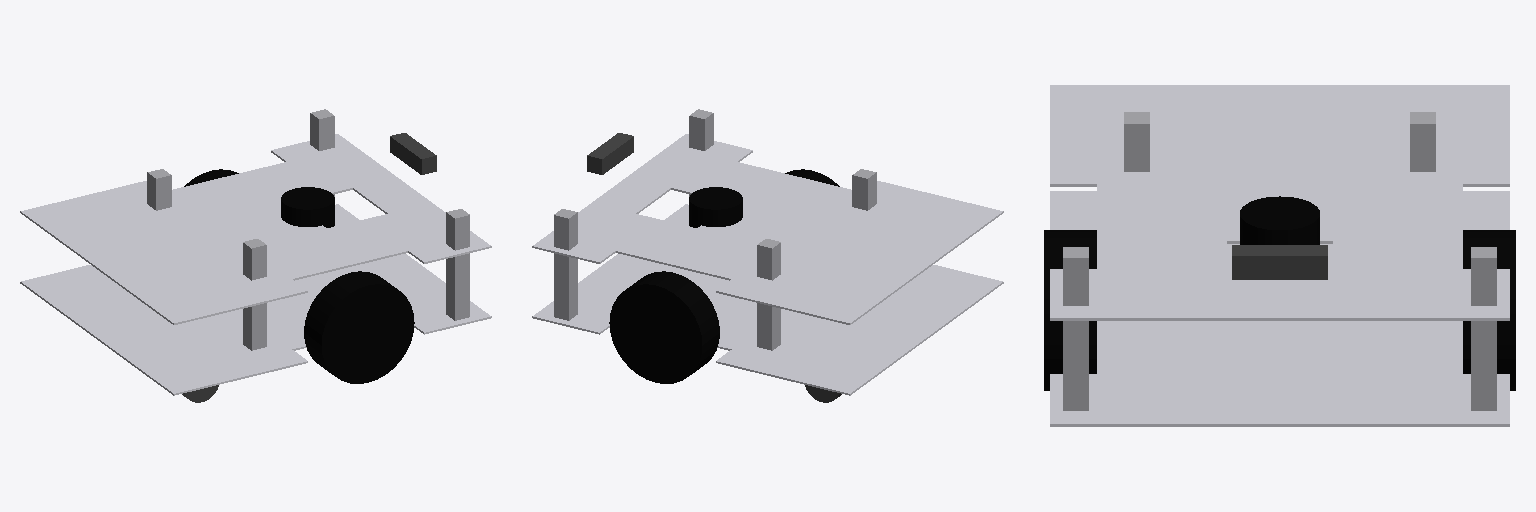
The robot description file, URDF, robot "robot_chassis":
<?xml version="1.0" ?>
<!-- =================================================================================== -->
<!-- |    This document was autogenerated by xacro from /home/shivu/argo_mini_ws/src/argo_mini/urdf/argo_mini.xacro | -->
<!-- |    EDITING THIS FILE BY HAND IS NOT RECOMMENDED                                 | -->
<!-- =================================================================================== -->
<robot name="robot_chassis">
  <material name="aluminum">
    <color rgba="0.85 0.85 0.88 1.0"/>
  </material>
  <material name="black">
    <color rgba="0.05 0.05 0.05 1.0"/>
  </material>
  <material name="dark_grey">
    <color rgba="0.30 0.30 0.30 1.0"/>
  </material>
  <material name="silver">
    <color rgba="0.70 0.70 0.72 1.0"/>
  </material>
  <link name="base_footprint"/>
  <link name="base_link">
    <visual>
      <origin rpy="0 0 0" xyz="0.20500000000000002 0 0.0015"/>
      <geometry>
        <box size="0.10999999999999999 0.435 0.003"/>
      </geometry>
      <material name="aluminum"/>
    </visual>
    <collision>
      <origin rpy="0 0 0" xyz="0.20500000000000002 0 0.0015"/>
      <geometry>
        <box size="0.10999999999999999 0.435 0.003"/>
      </geometry>
    </collision>
    <visual>
      <origin rpy="0 0 0" xyz="-0.15 0 0.0015"/>
      <geometry>
        <box size="0.22000000000000003 0.435 0.003"/>
      </geometry>
      <material name="aluminum"/>
    </visual>
    <collision>
      <origin rpy="0 0 0" xyz="-0.15 0 0.0015"/>
      <geometry>
        <box size="0.22000000000000003 0.435 0.003"/>
      </geometry>
    </collision>
    <visual>
      <origin rpy="0 0 0" xyz="0.05500000000000002 0 0.0015"/>
      <geometry>
        <box size="0.19 0.34500000000000003 0.003"/>
      </geometry>
      <material name="aluminum"/>
    </visual>
    <collision>
      <origin rpy="0 0 0" xyz="0.05500000000000002 0 0.0015"/>
      <geometry>
        <box size="0.19 0.34500000000000003 0.003"/>
      </geometry>
    </collision>
    <inertial>
      <mass value="2.0"/>
      <origin rpy="0 0 0" xyz="0 0 0"/>
      <inertia ixx="0.031539000000000005" ixy="0" ixz="0" iyy="0.045068166666666666" iyz="0" izz="0.07660416666666668"/>
    </inertial>
  </link>
  <joint name="base_footprint_to_base_link" type="fixed">
    <parent link="base_footprint"/>
    <child link="base_link"/>
    <origin rpy="0 0 0" xyz="0 0 0.06"/>
  </joint>
  <link name="upper_plate_link">
    <visual>
      <origin rpy="0 0 0" xyz="-0.15 0 0.0015"/>
      <geometry>
        <box size="0.22000000000000003 0.435 0.003"/>
      </geometry>
      <material name="aluminum"/>
    </visual>
    <collision>
      <origin rpy="0 0 0" xyz="-0.15 0 0.0015"/>
      <geometry>
        <box size="0.22000000000000003 0.435 0.003"/>
      </geometry>
    </collision>
    <visual>
      <origin rpy="0 0 0" xyz="0.023750000000000014 0 0.0015"/>
      <geometry>
        <box size="0.1275 0.34500000000000003 0.003"/>
      </geometry>
      <material name="aluminum"/>
    </visual>
    <collision>
      <origin rpy="0 0 0" xyz="0.023750000000000014 0 0.0015"/>
      <geometry>
        <box size="0.1275 0.34500000000000003 0.003"/>
      </geometry>
    </collision>
    <visual>
      <origin rpy="0 0 0" xyz="0.11875000000000002 0.11125000000000002 0.0015"/>
      <geometry>
        <box size="0.06250000000000001 0.12250000000000001 0.003"/>
      </geometry>
      <material name="aluminum"/>
    </visual>
    <collision>
      <origin rpy="0 0 0" xyz="0.11875000000000002 0.11125000000000002 0.0015"/>
      <geometry>
        <box size="0.06250000000000001 0.12250000000000001 0.003"/>
      </geometry>
    </collision>
    <visual>
      <origin rpy="0 0 0" xyz="0.11875000000000002 -0.11125000000000002 0.0015"/>
      <geometry>
        <box size="0.06250000000000001 0.12250000000000001 0.003"/>
      </geometry>
      <material name="aluminum"/>
    </visual>
    <collision>
      <origin rpy="0 0 0" xyz="0.11875000000000002 -0.11125000000000002 0.0015"/>
      <geometry>
        <box size="0.06250000000000001 0.12250000000000001 0.003"/>
      </geometry>
    </collision>
    <visual>
      <origin rpy="0 0 0" xyz="0.16875 0.13375 0.0015"/>
      <geometry>
        <box size="0.03749999999999998 0.16749999999999998 0.003"/>
      </geometry>
      <material name="aluminum"/>
    </visual>
    <collision>
      <origin rpy="0 0 0" xyz="0.16875 0.13375 0.0015"/>
      <geometry>
        <box size="0.03749999999999998 0.16749999999999998 0.003"/>
      </geometry>
    </collision>
    <visual>
      <origin rpy="0 0 0" xyz="0.16875 -0.13375 0.0015"/>
      <geometry>
        <box size="0.03749999999999998 0.16749999999999998 0.003"/>
      </geometry>
      <material name="aluminum"/>
    </visual>
    <collision>
      <origin rpy="0 0 0" xyz="0.16875 -0.13375 0.0015"/>
      <geometry>
        <box size="0.03749999999999998 0.16749999999999998 0.003"/>
      </geometry>
    </collision>
    <visual>
      <origin rpy="0 0 0" xyz="0.22375 0 0.0015"/>
      <geometry>
        <box size="0.07250000000000001 0.435 0.003"/>
      </geometry>
      <material name="aluminum"/>
    </visual>
    <collision>
      <origin rpy="0 0 0" xyz="0.22375 0 0.0015"/>
      <geometry>
        <box size="0.07250000000000001 0.435 0.003"/>
      </geometry>
    </collision>
    <inertial>
      <mass value="2.0"/>
      <origin rpy="0 0 0" xyz="0 0 0"/>
      <inertia ixx="0.031539000000000005" ixy="0" ixz="0" iyy="0.045068166666666666" iyz="0" izz="0.07660416666666668"/>
    </inertial>
  </link>
  <joint name="lower_plate_to_upper_plate" type="fixed">
    <parent link="base_link"/>
    <child link="upper_plate_link"/>
    <origin rpy="0 0 0" xyz="0 0 0.11"/>
  </joint>
  <link name="standoff_fl_link">
    <visual>
      <origin rpy="0 0 0" xyz="0 0 0.08"/>
      <geometry>
        <box size="0.025 0.025 0.16"/>
      </geometry>
      <material name="silver"/>
    </visual>
    <collision>
      <origin rpy="0 0 0" xyz="0 0 0.08"/>
      <geometry>
        <box size="0.025 0.025 0.16"/>
      </geometry>
    </collision>
    <inertial>
      <mass value="0.05"/>
      <origin rpy="0 0 0" xyz="0 0 0"/>
      <inertia ixx="0.00010927083333333334" ixy="0" ixz="0" iyy="0.00010927083333333334" iyz="0" izz="5.208333333333335e-06"/>
    </inertial>
  </link>
  <joint name="standoff_fl_joint" type="fixed">
    <parent link="base_link"/>
    <child link="standoff_fl_link"/>
    <origin rpy="0 0 0" xyz="0.22 0.1925 0.003"/>
  </joint>
  <link name="standoff_fr_link">
    <visual>
      <origin rpy="0 0 0" xyz="0 0 0.08"/>
      <geometry>
        <box size="0.025 0.025 0.16"/>
      </geometry>
      <material name="silver"/>
    </visual>
    <collision>
      <origin rpy="0 0 0" xyz="0 0 0.08"/>
      <geometry>
        <box size="0.025 0.025 0.16"/>
      </geometry>
    </collision>
    <inertial>
      <mass value="0.05"/>
      <origin rpy="0 0 0" xyz="0 0 0"/>
      <inertia ixx="0.00010927083333333334" ixy="0" ixz="0" iyy="0.00010927083333333334" iyz="0" izz="5.208333333333335e-06"/>
    </inertial>
  </link>
  <joint name="standoff_fr_joint" type="fixed">
    <parent link="base_link"/>
    <child link="standoff_fr_link"/>
    <origin rpy="0 0 0" xyz="0.22 -0.1925 0.003"/>
  </joint>
  <link name="standoff_rl_link">
    <visual>
      <origin rpy="0 0 0" xyz="0 0 0.08"/>
      <geometry>
        <box size="0.025 0.025 0.16"/>
      </geometry>
      <material name="silver"/>
    </visual>
    <collision>
      <origin rpy="0 0 0" xyz="0 0 0.08"/>
      <geometry>
        <box size="0.025 0.025 0.16"/>
      </geometry>
    </collision>
    <inertial>
      <mass value="0.05"/>
      <origin rpy="0 0 0" xyz="0 0 0"/>
      <inertia ixx="0.00010927083333333334" ixy="0" ixz="0" iyy="0.00010927083333333334" iyz="0" izz="5.208333333333335e-06"/>
    </inertial>
  </link>
  <joint name="standoff_rl_joint" type="fixed">
    <parent link="base_link"/>
    <child link="standoff_rl_link"/>
    <origin rpy="0 0 0" xyz="-0.07999999999999999 0.135 0.003"/>
  </joint>
  <link name="standoff_rr_link">
    <visual>
      <origin rpy="0 0 0" xyz="0 0 0.08"/>
      <geometry>
        <box size="0.025 0.025 0.16"/>
      </geometry>
      <material name="silver"/>
    </visual>
    <collision>
      <origin rpy="0 0 0" xyz="0 0 0.08"/>
      <geometry>
        <box size="0.025 0.025 0.16"/>
      </geometry>
    </collision>
    <inertial>
      <mass value="0.05"/>
      <origin rpy="0 0 0" xyz="0 0 0"/>
      <inertia ixx="0.00010927083333333334" ixy="0" ixz="0" iyy="0.00010927083333333334" iyz="0" izz="5.208333333333335e-06"/>
    </inertial>
  </link>
  <joint name="standoff_rr_joint" type="fixed">
    <parent link="base_link"/>
    <child link="standoff_rr_link"/>
    <origin rpy="0 0 0" xyz="-0.07999999999999999 -0.135 0.003"/>
  </joint>
  <link name="left_wheel_link">
    <visual>
      <origin rpy="1.5707963267948966 0 0" xyz="0 0 0"/>
      <geometry>
        <cylinder length="0.05" radius="0.0762"/>
      </geometry>
      <material name="black"/>
    </visual>
    <collision>
      <origin rpy="1.5707963267948966 0 0" xyz="0 0 0"/>
      <geometry>
        <cylinder length="0.05" radius="0.0762"/>
      </geometry>
    </collision>
    <inertial>
      <mass value="1.5"/>
      <origin rpy="0 0 0" xyz="0 0 0"/>
      <inertia ixx="0.0030218750000000003" ixy="0" ixz="0" iyy="0.0030218750000000003" iyz="0" izz="0.005418750000000001"/>
    </inertial>
  </link>
  <joint name="left_wheel_joint" type="continuous">
    <parent link="base_link"/>
    <child link="left_wheel_link"/>
    <origin rpy="0 0 0" xyz="0.05500000000000002 0.1975 0.02500000000000001"/>
    <axis xyz="0 1 0"/>
    <limit effort="10.0" velocity="10.0"/>
    <dynamics damping="0.1" friction="0.1"/>
  </joint>
  <link name="right_wheel_link">
    <visual>
      <origin rpy="1.5707963267948966 0 0" xyz="0 0 0"/>
      <geometry>
        <cylinder length="0.05" radius="0.0762"/>
      </geometry>
      <material name="black"/>
    </visual>
    <collision>
      <origin rpy="1.5707963267948966 0 0" xyz="0 0 0"/>
      <geometry>
        <cylinder length="0.05" radius="0.0762"/>
      </geometry>
    </collision>
    <inertial>
      <mass value="1.5"/>
      <origin rpy="0 0 0" xyz="0 0 0"/>
      <inertia ixx="0.0030218750000000003" ixy="0" ixz="0" iyy="0.0030218750000000003" iyz="0" izz="0.005418750000000001"/>
    </inertial>
  </link>
  <joint name="right_wheel_joint" type="continuous">
    <parent link="base_link"/>
    <child link="right_wheel_link"/>
    <origin rpy="0 0 0" xyz="0.05500000000000002 -0.1975 0.02500000000000001"/>
    <axis xyz="0 1 0"/>
    <limit effort="10.0" velocity="10.0"/>
    <dynamics damping="0.1" friction="0.1"/>
  </joint>
  <link name="caster_mount_rl_link">
    <visual>
      <origin rpy="0 0 0" xyz="0 0 -0.0025"/>
      <geometry>
        <cylinder length="0.005" radius="0.018"/>
      </geometry>
      <material name="silver"/>
    </visual>
    <collision>
      <origin rpy="0 0 0" xyz="0 0 -0.0025"/>
      <geometry>
        <cylinder length="0.005" radius="0.018"/>
      </geometry>
    </collision>
    <inertial>
      <mass value="0.02"/>
      <origin rpy="0 0 0" xyz="0 0 0"/>
      <inertia ixx="1.6616666666666665e-06" ixy="0" ixz="0" iyy="1.6616666666666665e-06" iyz="0" izz="3.2399999999999995e-06"/>
    </inertial>
  </link>
  <joint name="caster_mount_rl_joint" type="fixed">
    <parent link="base_link"/>
    <child link="caster_mount_rl_link"/>
    <origin rpy="0 0 0" xyz="-0.16 0.135 0"/>
  </joint>
  <link name="caster_yaw_rl_link">
    <visual>
      <origin rpy="0 0 0" xyz="-0.006 0 -0.0125"/>
      <geometry>
        <box size="0.022 0.012 0.025"/>
      </geometry>
      <material name="silver"/>
    </visual>
    <collision>
      <origin rpy="0 0 0" xyz="-0.006 0 -0.0125"/>
      <geometry>
        <box size="0.022 0.012 0.025"/>
      </geometry>
    </collision>
    <inertial>
      <mass value="0.03"/>
      <origin rpy="0 0 0" xyz="0 0 0"/>
      <inertia ixx="1.9225000000000002e-06" ixy="0" ixz="0" iyy="2.7725000000000006e-06" iyz="0" izz="1.57e-06"/>
    </inertial>
  </link>
  <joint name="caster_yaw_rl_joint" type="continuous">
    <parent link="caster_mount_rl_link"/>
    <child link="caster_yaw_rl_link"/>
    <origin rpy="0 0 0" xyz="0 0 -0.005"/>
    <axis xyz="0 0 1"/>
    <dynamics damping="0.02" friction="0.005"/>
  </joint>
  <link name="caster_wheel_rl_link">
    <visual>
      <origin rpy="1.5707963267948966 0 0" xyz="0 0 0"/>
      <geometry>
        <cylinder length="0.02" radius="0.03"/>
      </geometry>
      <material name="dark_grey"/>
    </visual>
    <collision>
      <origin rpy="1.5707963267948966 0 0" xyz="0 0 0"/>
      <geometry>
        <cylinder length="0.02" radius="0.03"/>
      </geometry>
    </collision>
    <inertial>
      <mass value="0.08"/>
      <origin rpy="0 0 0" xyz="0 0 0"/>
      <inertia ixx="2.0666666666666666e-05" ixy="0" ixz="0" iyy="2.0666666666666666e-05" iyz="0" izz="3.5999999999999994e-05"/>
    </inertial>
  </link>
  <joint name="caster_wheel_rl_joint" type="continuous">
    <parent link="caster_yaw_rl_link"/>
    <child link="caster_wheel_rl_link"/>
    <origin rpy="0 0 0" xyz="-0.012 0 -0.025"/>
    <axis xyz="0 1 0"/>
    <dynamics damping="0.05" friction="0.01"/>
  </joint>
  <link name="caster_mount_rr_link">
    <visual>
      <origin rpy="0 0 0" xyz="0 0 -0.0025"/>
      <geometry>
        <cylinder length="0.005" radius="0.018"/>
      </geometry>
      <material name="silver"/>
    </visual>
    <collision>
      <origin rpy="0 0 0" xyz="0 0 -0.0025"/>
      <geometry>
        <cylinder length="0.005" radius="0.018"/>
      </geometry>
    </collision>
    <inertial>
      <mass value="0.02"/>
      <origin rpy="0 0 0" xyz="0 0 0"/>
      <inertia ixx="1.6616666666666665e-06" ixy="0" ixz="0" iyy="1.6616666666666665e-06" iyz="0" izz="3.2399999999999995e-06"/>
    </inertial>
  </link>
  <joint name="caster_mount_rr_joint" type="fixed">
    <parent link="base_link"/>
    <child link="caster_mount_rr_link"/>
    <origin rpy="0 0 0" xyz="-0.16 -0.135 0"/>
  </joint>
  <link name="caster_yaw_rr_link">
    <visual>
      <origin rpy="0 0 0" xyz="-0.006 0 -0.0125"/>
      <geometry>
        <box size="0.022 0.012 0.025"/>
      </geometry>
      <material name="silver"/>
    </visual>
    <collision>
      <origin rpy="0 0 0" xyz="-0.006 0 -0.0125"/>
      <geometry>
        <box size="0.022 0.012 0.025"/>
      </geometry>
    </collision>
    <inertial>
      <mass value="0.03"/>
      <origin rpy="0 0 0" xyz="0 0 0"/>
      <inertia ixx="1.9225000000000002e-06" ixy="0" ixz="0" iyy="2.7725000000000006e-06" iyz="0" izz="1.57e-06"/>
    </inertial>
  </link>
  <joint name="caster_yaw_rr_joint" type="continuous">
    <parent link="caster_mount_rr_link"/>
    <child link="caster_yaw_rr_link"/>
    <origin rpy="0 0 0" xyz="0 0 -0.005"/>
    <axis xyz="0 0 1"/>
    <dynamics damping="0.02" friction="0.005"/>
  </joint>
  <link name="caster_wheel_rr_link">
    <visual>
      <origin rpy="1.5707963267948966 0 0" xyz="0 0 0"/>
      <geometry>
        <cylinder length="0.02" radius="0.03"/>
      </geometry>
      <material name="dark_grey"/>
    </visual>
    <collision>
      <origin rpy="1.5707963267948966 0 0" xyz="0 0 0"/>
      <geometry>
        <cylinder length="0.02" radius="0.03"/>
      </geometry>
    </collision>
    <inertial>
      <mass value="0.08"/>
      <origin rpy="0 0 0" xyz="0 0 0"/>
      <inertia ixx="2.0666666666666666e-05" ixy="0" ixz="0" iyy="2.0666666666666666e-05" iyz="0" izz="3.5999999999999994e-05"/>
    </inertial>
  </link>
  <joint name="caster_wheel_rr_joint" type="continuous">
    <parent link="caster_yaw_rr_link"/>
    <child link="caster_wheel_rr_link"/>
    <origin rpy="0 0 0" xyz="-0.012 0 -0.025"/>
    <axis xyz="0 1 0"/>
    <dynamics damping="0.05" friction="0.01"/>
  </joint>
  <link name="lidar_link">
    <visual>
      <origin rpy="0 0 0" xyz="0 0 0"/>
      <geometry>
        <cylinder length="0.041" radius="0.038"/>
      </geometry>
      <material name="black"/>
    </visual>
    <collision>
      <origin rpy="0 0 0" xyz="0 0 0"/>
      <geometry>
        <cylinder length="0.041" radius="0.038"/>
      </geometry>
    </collision>
    <inertial>
      <mass value="0.19"/>
      <origin rpy="0 0 0" xyz="0 0 0"/>
      <inertia ixx="9.520583333333334e-05" ixy="0" ixz="0" iyy="9.520583333333334e-05" iyz="0" izz="0.00013717999999999998"/>
    </inertial>
  </link>
  <joint name="lidar_joint" type="fixed">
    <parent link="base_link"/>
    <child link="lidar_link"/>
    <origin rpy="0 0 0" xyz="0.085 0 0.12"/>
  </joint>
  <link name="camera_link">
    <visual>
      <origin rpy="0 0 0" xyz="0 0 0"/>
      <geometry>
        <box size="0.025 0.09 0.025"/>
      </geometry>
      <material name="dark_grey"/>
    </visual>
    <collision>
      <origin rpy="0 0 0" xyz="0 0 0"/>
      <geometry>
        <box size="0.025 0.09 0.025"/>
      </geometry>
    </collision>
    <inertial>
      <mass value="0.1"/>
      <origin rpy="0 0 0" xyz="0 0 0"/>
      <inertia ixx="7.270833333333333e-05" ixy="0" ixz="0" iyy="1.041666666666667e-05" iyz="0" izz="7.270833333333333e-05"/>
    </inertial>
  </link>
  <joint name="camera_joint" type="fixed">
    <parent link="base_link"/>
    <child link="camera_link"/>
    <origin rpy="0 0 0" xyz="0.2575 0 0.170"/>
  </joint>
  <link name="depth_camera_optical_frame"/>
  <joint name="camera_optical_joint" type="fixed">
    <parent link="camera_link"/>
    <child link="depth_camera_optical_frame"/>
    <!-- HP60C faces UP, tilted 23.9 deg off vertical (fixed in hardware).
         Measured from the ceiling plane by `ros2 run argo_mini ceiling_calibrate`;
         was the forward-facing optical rpy, which did not match the mount. -->
    <origin rpy="0.417281 -0.018276 1.611996" xyz="0 0 0"/>
  </joint>
  <gazebo reference="base_link">
    <material>Gazebo/Grey</material>
  </gazebo>
  <gazebo reference="upper_plate_link">
    <material>Gazebo/Grey</material>
  </gazebo>
  <gazebo reference="camera_link">
    <material>Gazebo/DarkGrey</material>
  </gazebo>
  <gazebo reference="left_wheel_link">
    <material>Gazebo/Black</material>
    <mu1>1.0</mu1>
    <mu2>1.0</mu2>
    <kp>1e6</kp>
    <kd>10</kd>
  </gazebo>
  <gazebo reference="right_wheel_link">
    <material>Gazebo/Black</material>
    <mu1>1.0</mu1>
    <mu2>1.0</mu2>
    <kp>1e6</kp>
    <kd>10</kd>
  </gazebo>
  <gazebo reference="caster_wheel_rl_link">
    <material>Gazebo/DarkGrey</material>
    <mu1>0.05</mu1>
    <mu2>0.05</mu2>
    <kp>1e6</kp>
    <kd>10</kd>
  </gazebo>
  <gazebo reference="caster_wheel_rr_link">
    <material>Gazebo/DarkGrey</material>
    <mu1>0.05</mu1>
    <mu2>0.05</mu2>
    <kp>1e6</kp>
    <kd>10</kd>
  </gazebo>
  <gazebo reference="lidar_link">
    <material>Gazebo/Black</material>
    <sensor name="lidar_sensor" type="gpu_lidar">
      <topic>scan</topic>
      <gz_frame_id>lidar_link</gz_frame_id>
      <update_rate>10</update_rate>
      <always_on>true</always_on>
      <visualize>true</visualize>
      <ray>
        <scan>
          <horizontal>
            <samples>360</samples>
            <resolution>1</resolution>
            <min_angle>-3.14159265</min_angle>
            <max_angle> 3.14159265</max_angle>
          </horizontal>
          <vertical>
            <samples>1</samples>
            <resolution>1</resolution>
            <min_angle>0.0</min_angle>
            <max_angle>0.0</max_angle>
          </vertical>
        </scan>
        <range>
          <min>0.12</min>
          <max>12.0</max>
          <resolution>0.01</resolution>
        </range>
      </ray>
    </sensor>
  </gazebo>
  <gazebo reference="camera_link">
    <sensor name="depth_camera" type="rgbd_camera">
      <topic>camera</topic>
      <gz_frame_id>depth_camera_optical_frame</gz_frame_id>
      <update_rate>30</update_rate>
      <always_on>true</always_on>
      <visualize>true</visualize>
      <camera>
        <horizontal_fov>1.5008</horizontal_fov>
        <image>
          <width>640</width>
          <height>480</height>
          <format>R8G8B8</format>
        </image>
        <clip>
          <near>0.1</near>
          <far>10.0</far>
        </clip>
      </camera>
    </sensor>
  </gazebo>
  <gazebo>
    <plugin filename="gz-sim-diff-drive-system" name="gz::sim::systems::DiffDrive">
      <left_joint>left_wheel_joint</left_joint>
      <right_joint>right_wheel_joint</right_joint>
      <wheel_separation>0.395</wheel_separation>
      <wheel_radius>0.085</wheel_radius>
      <max_linear_acceleration>2.0</max_linear_acceleration>
      <max_linear_velocity>1.0</max_linear_velocity>
      <max_angular_velocity>2.0</max_angular_velocity>
      <topic>cmd_vel</topic>
      <odom_topic>odom</odom_topic>
      <tf_topic>tf</tf_topic>
      <frame_id>odom</frame_id>
      <child_frame_id>base_footprint</child_frame_id>
      <odom_publish_frequency>50</odom_publish_frequency>
    </plugin>
    <plugin filename="gz-sim-joint-state-publisher-system" name="gz::sim::systems::JointStatePublisher">
      <topic>joint_states</topic>
      <joint_name>left_wheel_joint</joint_name>
      <joint_name>right_wheel_joint</joint_name>
      <joint_name>caster_yaw_rl_joint</joint_name>
      <joint_name>caster_wheel_rl_joint</joint_name>
      <joint_name>caster_yaw_rr_joint</joint_name>
      <joint_name>caster_wheel_rr_joint</joint_name>
    </plugin>
  </gazebo>
</robot>

--- What the picture shows (computed from the rendered views, not written in the file) ---
Views: 3 orthographic renders of the robot side by side, from view 1: azimuth 30°, elevation 25°; view 2: azimuth 150°, elevation 25°; view 3: azimuth 270°, elevation 25°.
Robot: robot_chassis — 18 links, 17 joints (6 continuous, 11 fixed); root link base_footprint; default pose: every joint at zero.
Visible links, largest first — view 1: upper_plate_link, base_link, right_wheel_link, standoff_fr_link, lidar_link, standoff_rr_link, camera_link, standoff_fl_link, standoff_rl_link; view 2: upper_plate_link, base_link, left_wheel_link, standoff_fl_link, lidar_link, standoff_rl_link, camera_link, standoff_fr_link, standoff_rr_link; view 3: upper_plate_link, base_link, standoff_fl_link, standoff_fr_link, lidar_link, camera_link, left_wheel_link, right_wheel_link, standoff_rl_link, standoff_rr_link.
Link boxes in pixels (left/top/right/bottom): upper_plate_link: left=20, top=134, right=491, bottom=324; base_link: left=20, top=204, right=491, bottom=395; right_wheel_link: left=304, top=271, right=414, bottom=383; standoff_fr_link: left=446, top=209, right=469, bottom=320; lidar_link: left=281, top=187, right=334, bottom=227; standoff_rr_link: left=243, top=239, right=266, bottom=350; camera_link: left=390, top=133, right=436, bottom=174; standoff_fl_link: left=310, top=109, right=334, bottom=196; standoff_rl_link: left=147, top=169, right=171, bottom=210; upper_plate_link: left=532, top=134, right=1003, bottom=324; base_link: left=532, top=204, right=1003, bottom=395; left_wheel_link: left=609, top=271, right=719, bottom=383; standoff_fl_link: left=554, top=209, right=577, bottom=320; lidar_link: left=689, top=187, right=742, bottom=227; standoff_rl_link: left=757, top=239, right=780, bottom=350; camera_link: left=587, top=133, right=633, bottom=174; standoff_fr_link: left=689, top=109, right=713, bottom=196; standoff_rr_link: left=852, top=169, right=876, bottom=210; upper_plate_link: left=1050, top=85, right=1509, bottom=320; base_link: left=1050, top=191, right=1509, bottom=426; standoff_fl_link: left=1471, top=247, right=1496, bottom=410; standoff_fr_link: left=1063, top=247, right=1088, bottom=410; lidar_link: left=1240, top=196, right=1319, bottom=244; camera_link: left=1232, top=245, right=1327, bottom=279; left_wheel_link: left=1463, top=230, right=1515, bottom=390; right_wheel_link: left=1044, top=230, right=1096, bottom=390; standoff_rl_link: left=1410, top=112, right=1435, bottom=171; standoff_rr_link: left=1124, top=112, right=1149, bottom=171.
Bounding box of the posed robot: 0.53 × 0.445 × 0.2425 m (x, y, z).
Geometry: primitives only (box / cylinder / sphere), no mesh files.
